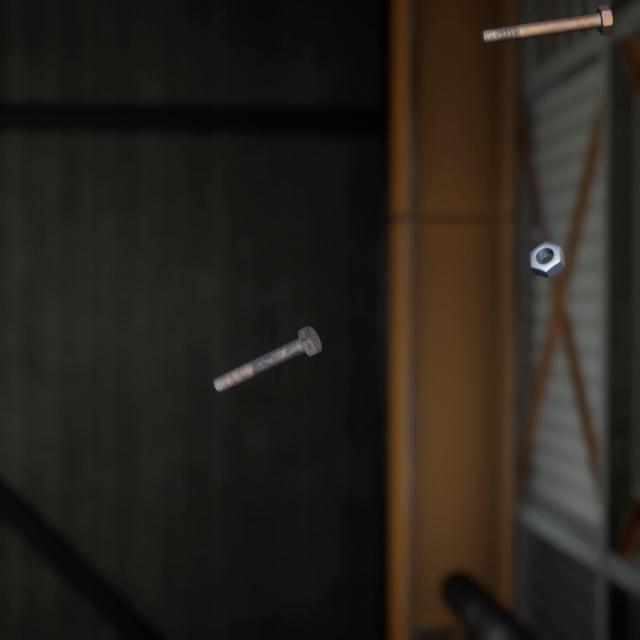bolt: (208, 302, 326, 377), (476, 0, 617, 40)
nut: (525, 220, 568, 266)
